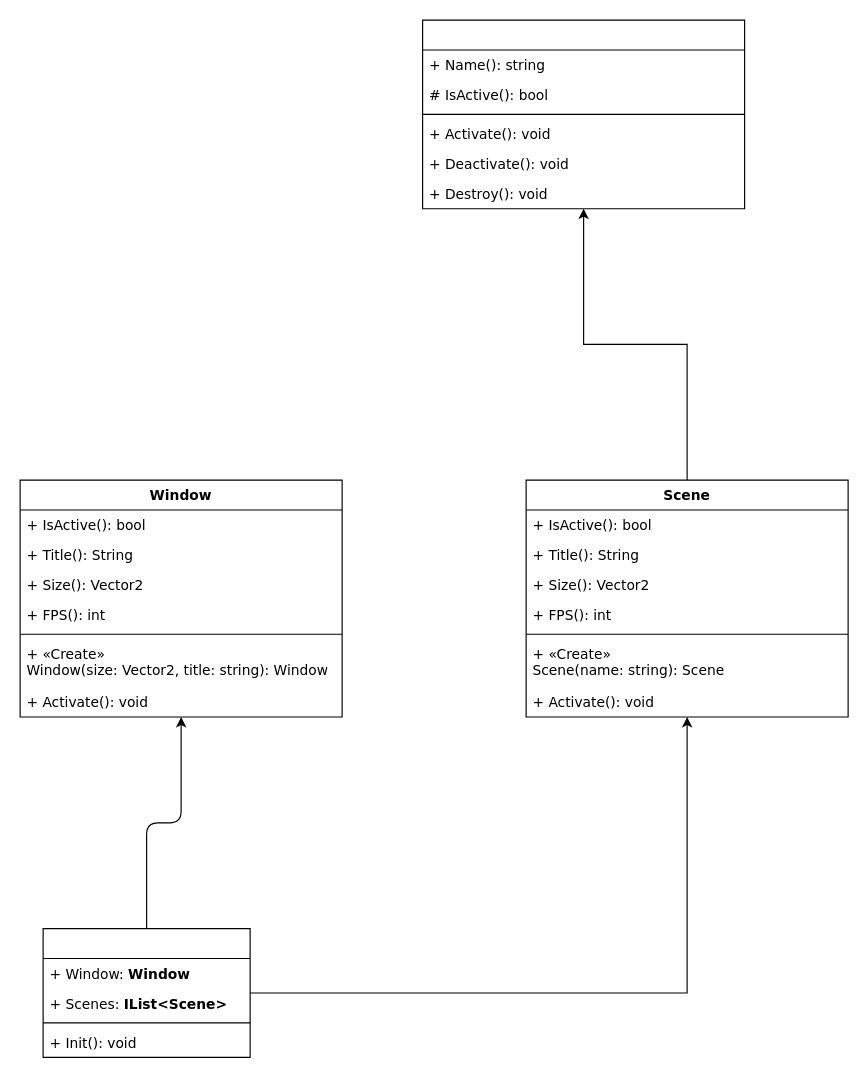
This 868x1081 diagram has some shape labels left out. Here are the shapes that lost their labels. From the top down, the box of each, then its label:
(421, 19, 745, 209): GameObject
(42, 927, 250, 1057): Engine
